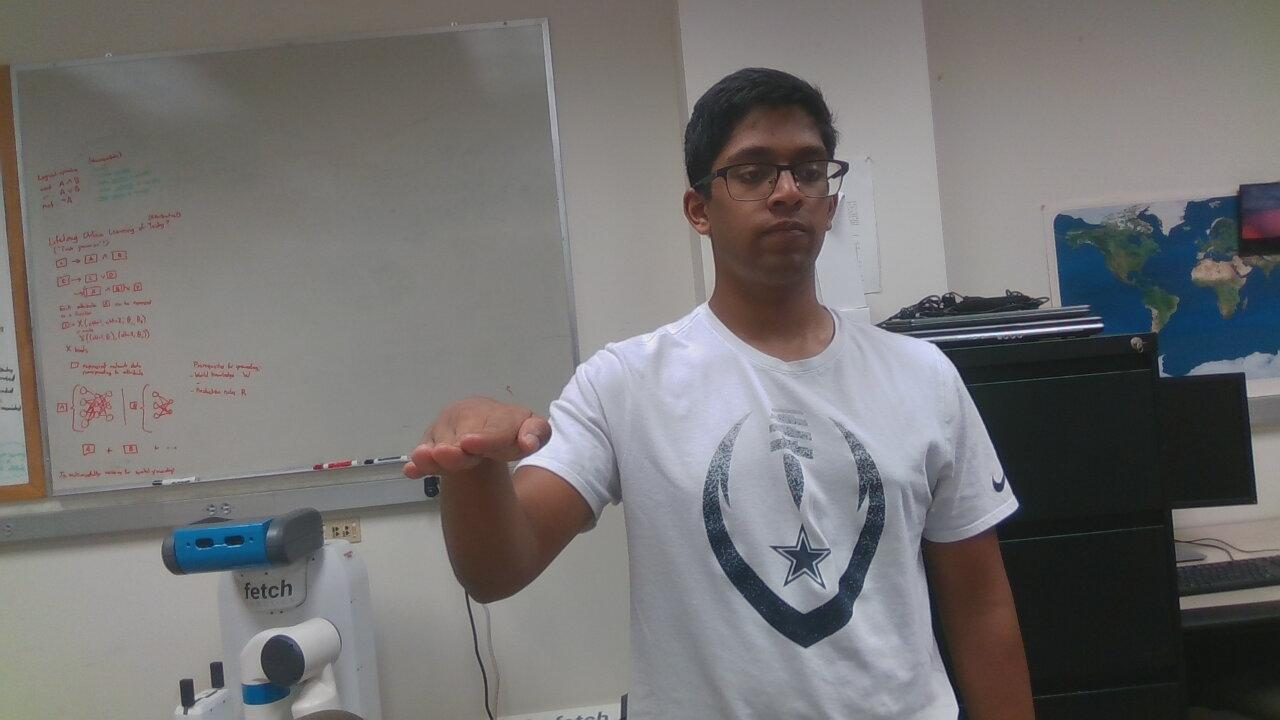hands: (390, 378, 578, 512)
